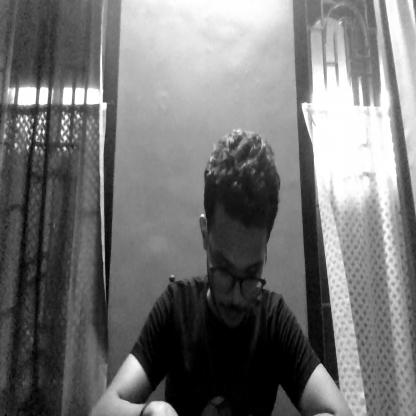Distracted: (196, 131, 284, 349)
